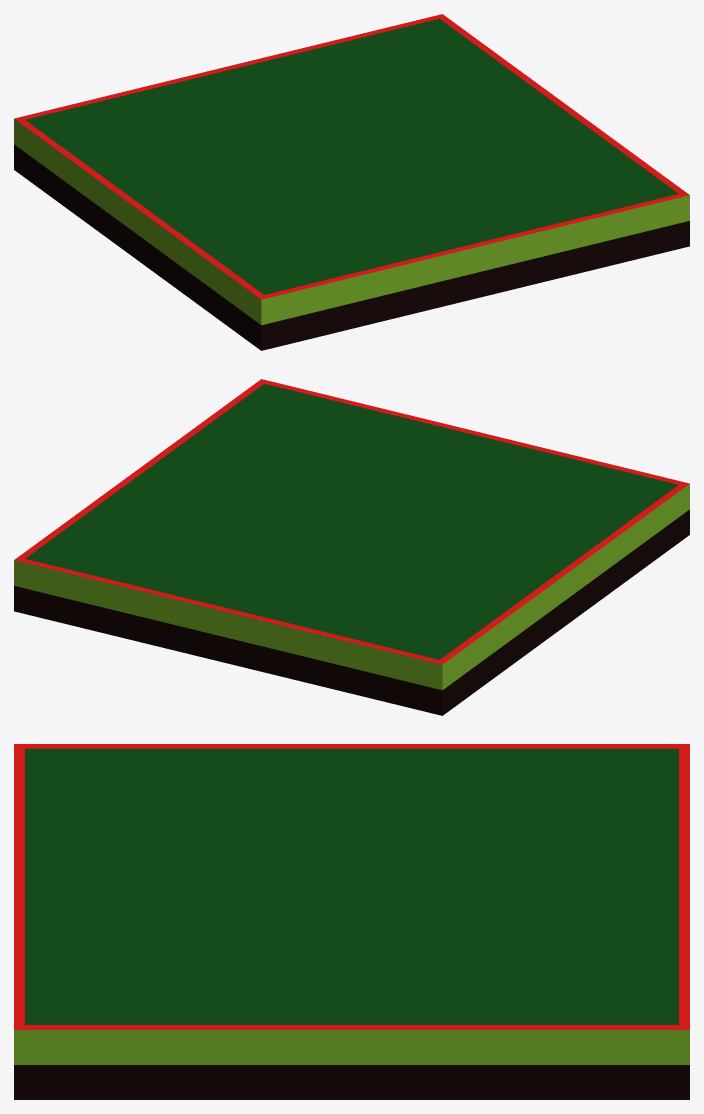
The model's file is Tile_3.FBX.
The picture shows the model from 3 angles, top to bottom: view 1: azimuth 30°, elevation 25°; view 2: azimuth 150°, elevation 25°; view 3: azimuth 270°, elevation 25°; orthographic projection. The views are drawn at different scales.
Visible parts, largest first — view 1: Box005; view 2: Box005; view 3: Box005.
Part boxes in pixels (x1=…): Box005: x1=14, y1=14, x2=689, y2=350; Box005: x1=14, y1=379, x2=689, y2=715; Box005: x1=14, y1=744, x2=689, y2=1099.
Bounding box in the file's own units: 37.84 × 4.32 × 37.84.
